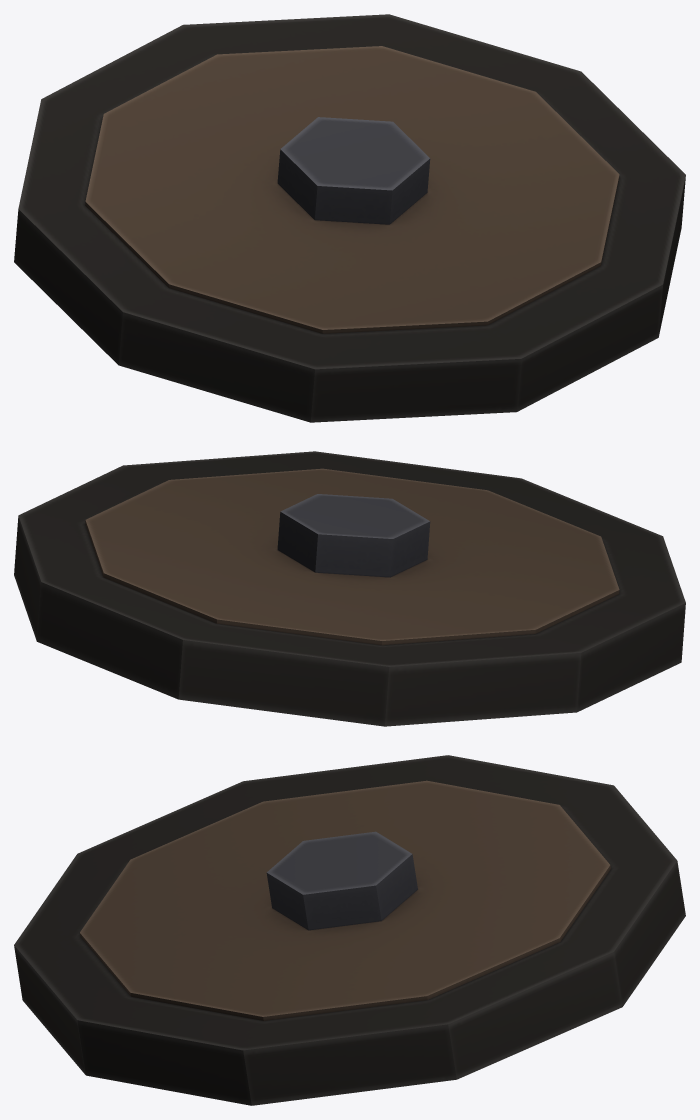
The model's file is decor_wheel.glb.
3 renders of one model, top to bottom at view 1: azimuth 30°, elevation 25°; view 2: azimuth 150°, elevation 25°; view 3: azimuth 270°, elevation 25°, orthographic. The views are drawn at different scales.
Visible parts, largest first — view 1: decor_wheel; view 2: decor_wheel; view 3: decor_wheel.
Part boxes in pixels (box(x1,y1,x2,y2)): decor_wheel: box(14, 14, 685, 422); decor_wheel: box(14, 451, 685, 726); decor_wheel: box(14, 755, 685, 1105).
Bounding box in the file's own units: 0.7228 × 0.1834 × 0.7623.
1 material, 1 textured.
